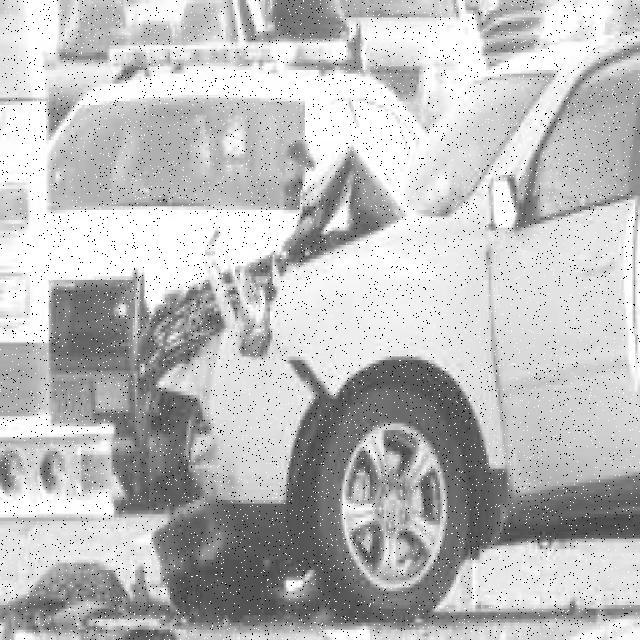car damage: (132, 143, 478, 564)
